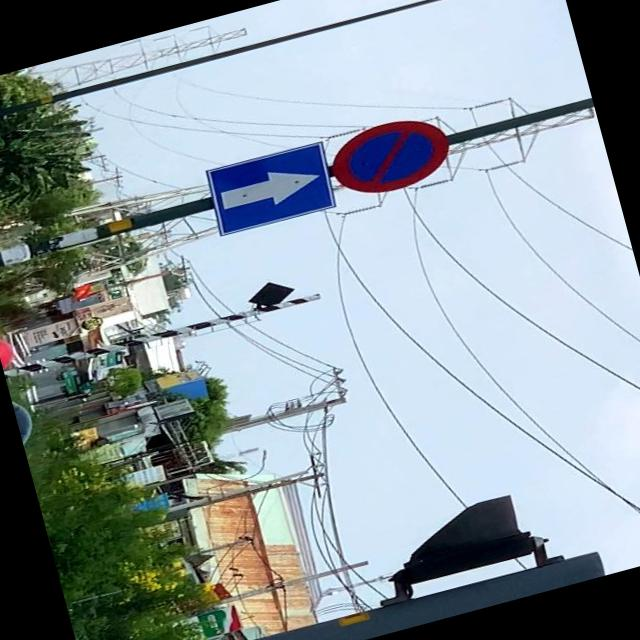I-407a: (202, 142, 338, 236)
P-131a: (323, 107, 457, 205)
